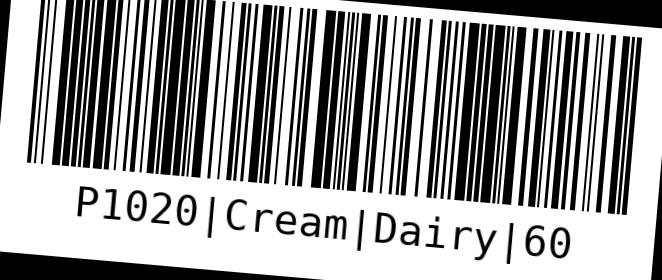milk: (16, 0, 649, 277)
